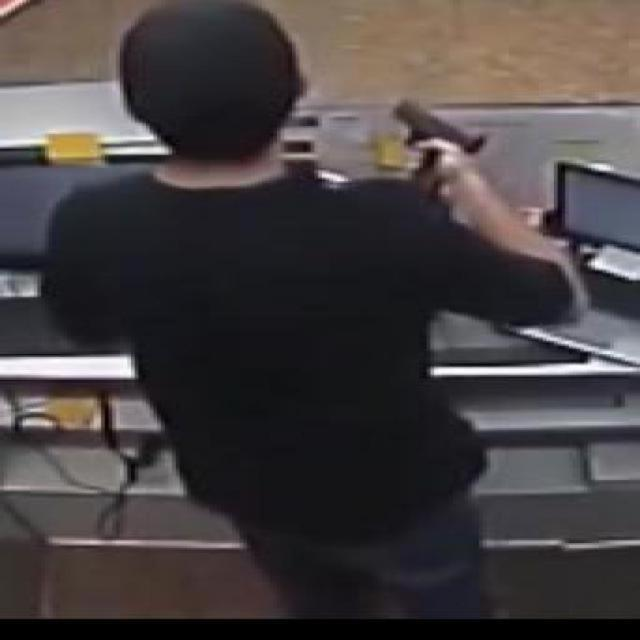pistol: (378, 90, 490, 186)
